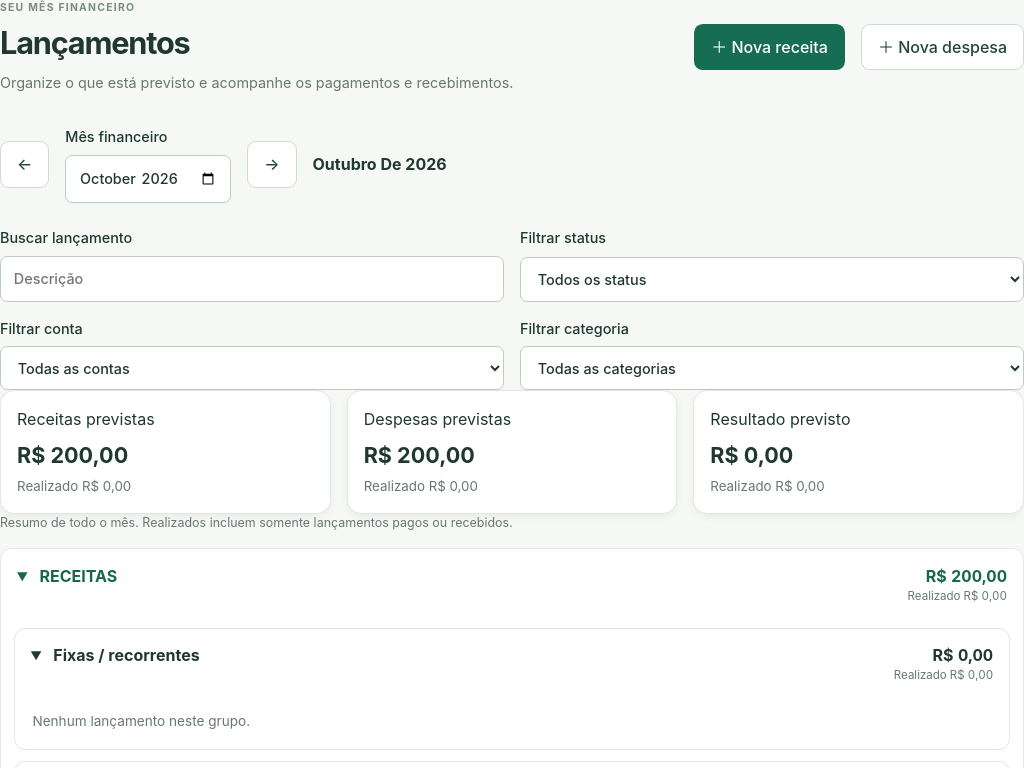
Test: Lançamentos › navegação mensal e busca
The width and height of the screenshot is (1024, 768).
Type "Salário" into the search field labelled "Buscar lançamento" at (252, 279), box [0, 256, 504, 302]
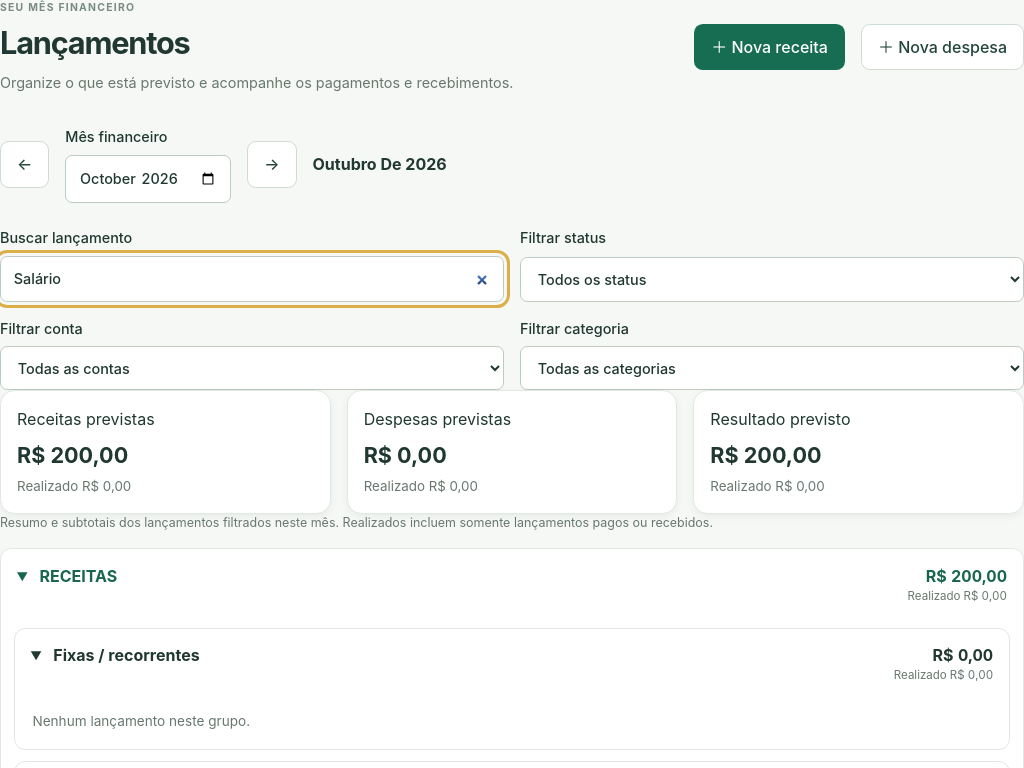
Expected: the heading "Energia" is not shown
Clear the search field labelled "Buscar lançamento" at (252, 279), box [0, 256, 504, 302]
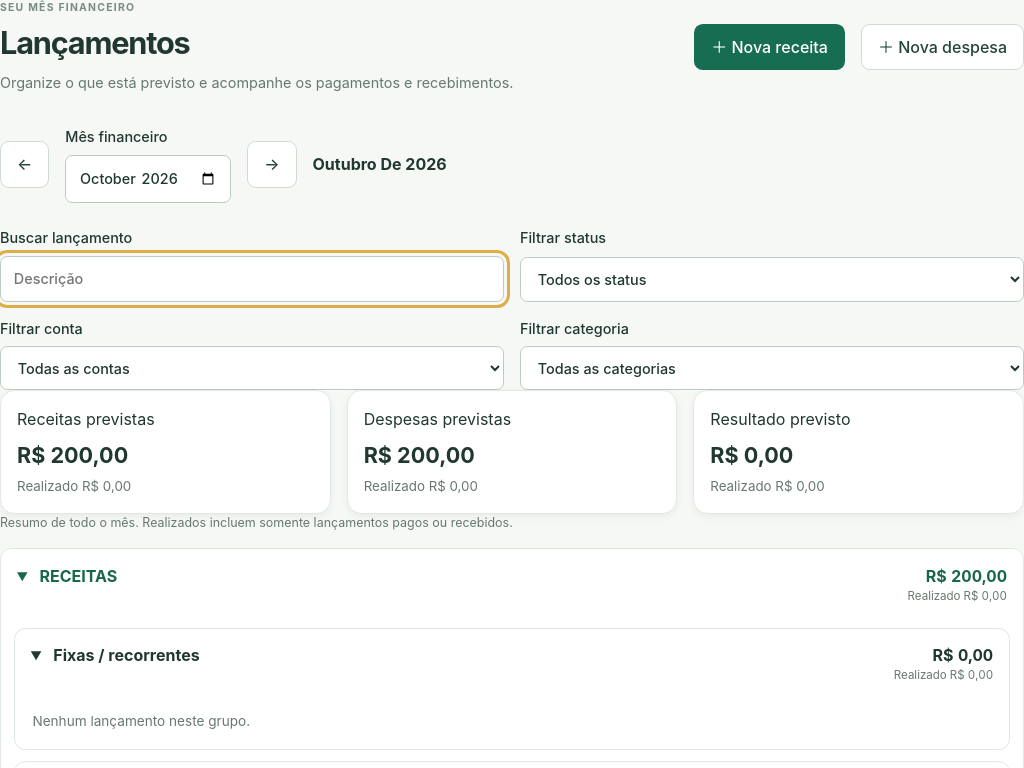
Click the button named "Próximo mês" at (272, 164), box [247, 141, 297, 188]
(page scrolled)
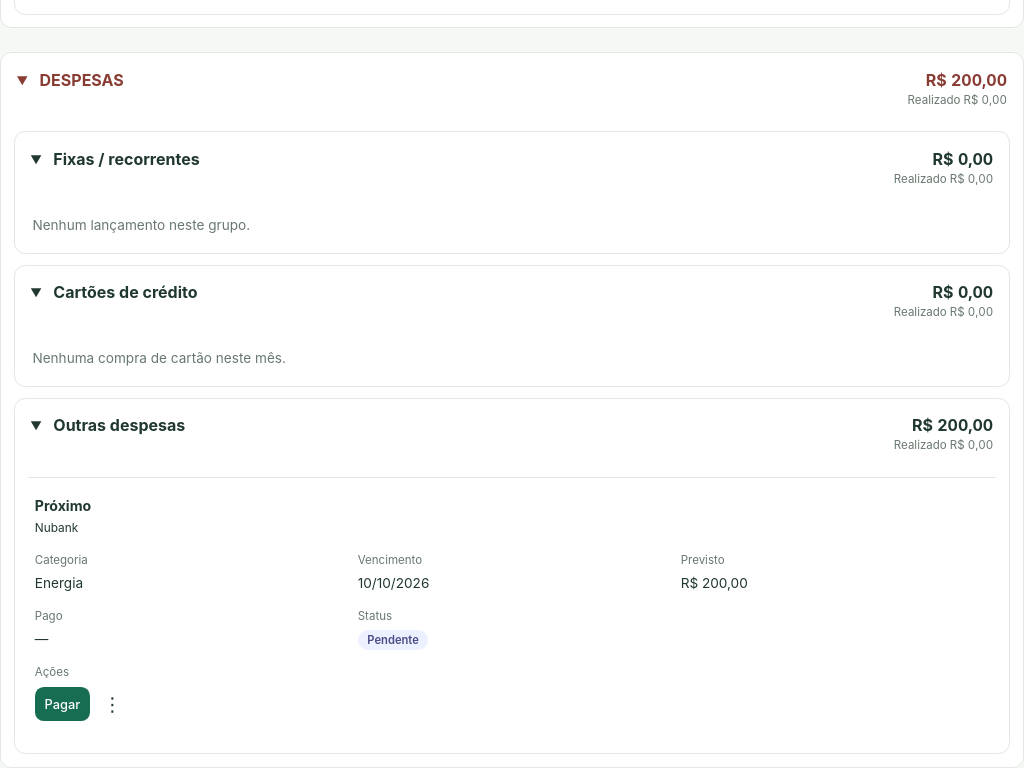
Expected: the heading "Próximo" is shown, [35, 497, 91, 514]
